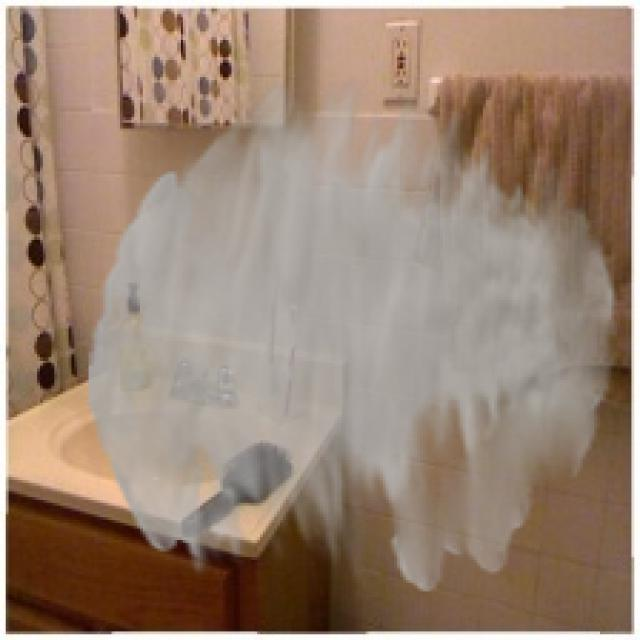Smoke: (88, 77, 618, 592)
